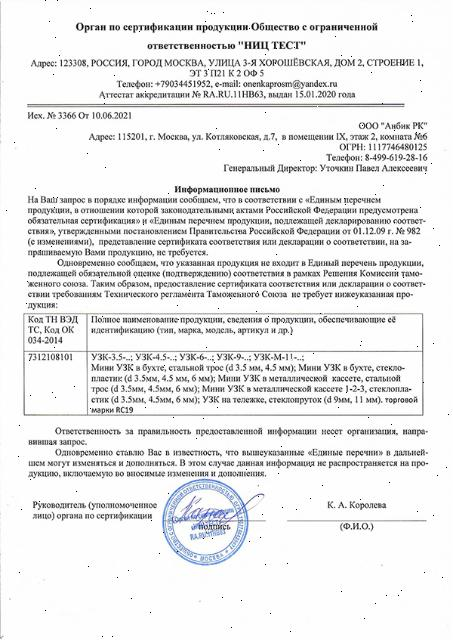stamp: (162, 479, 248, 567)
